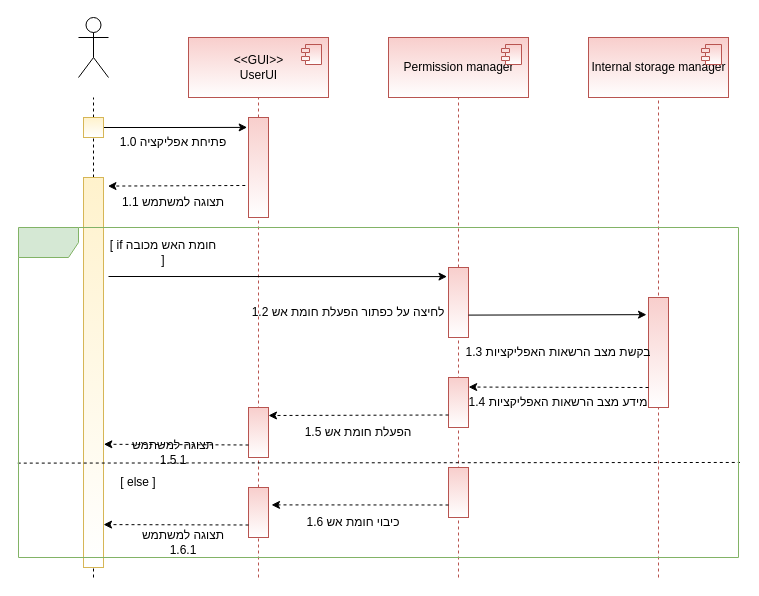
Some shapes in this 759 by 596 pixel diagram are drawn without their labels. Each missing label, with the centre of its shape:
"alt" belongs at point (378, 392).
"משתמש" belongs at point (93, 47).
